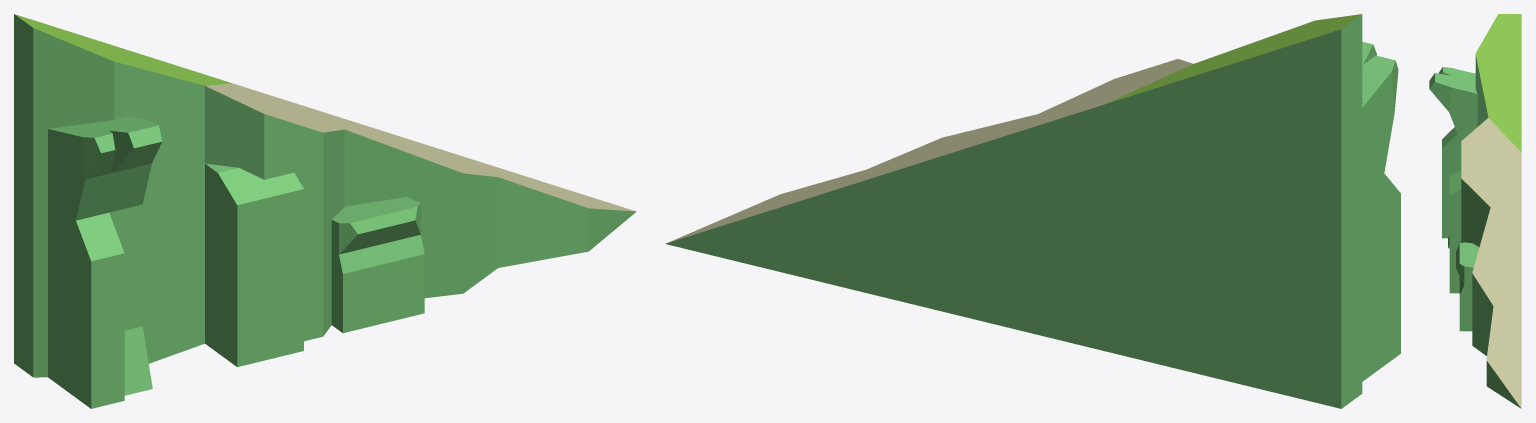
Rendered from x_oo_ground_30_wall_down_mirror.fbx.
3 views of the same model, side by side, from view 1: azimuth 30°, elevation 25°; view 2: azimuth 150°, elevation 25°; view 3: azimuth 270°, elevation 25° (orthographic). The views are drawn at different scales.
Visible parts, largest first — view 1: x_oo_ground_30_wall_down_mirror1; view 2: x_oo_ground_30_wall_down_mirror1; view 3: x_oo_ground_30_wall_down_mirror1.
Boxes of the visible parts, left/top/right/bottom form: x_oo_ground_30_wall_down_mirror1: left=14, top=14, right=636, bottom=408; x_oo_ground_30_wall_down_mirror1: left=665, top=14, right=1400, bottom=408; x_oo_ground_30_wall_down_mirror1: left=1429, top=14, right=1521, bottom=408.
Bounding box in the file's own units: 9.32 × 5 × 1.98.
